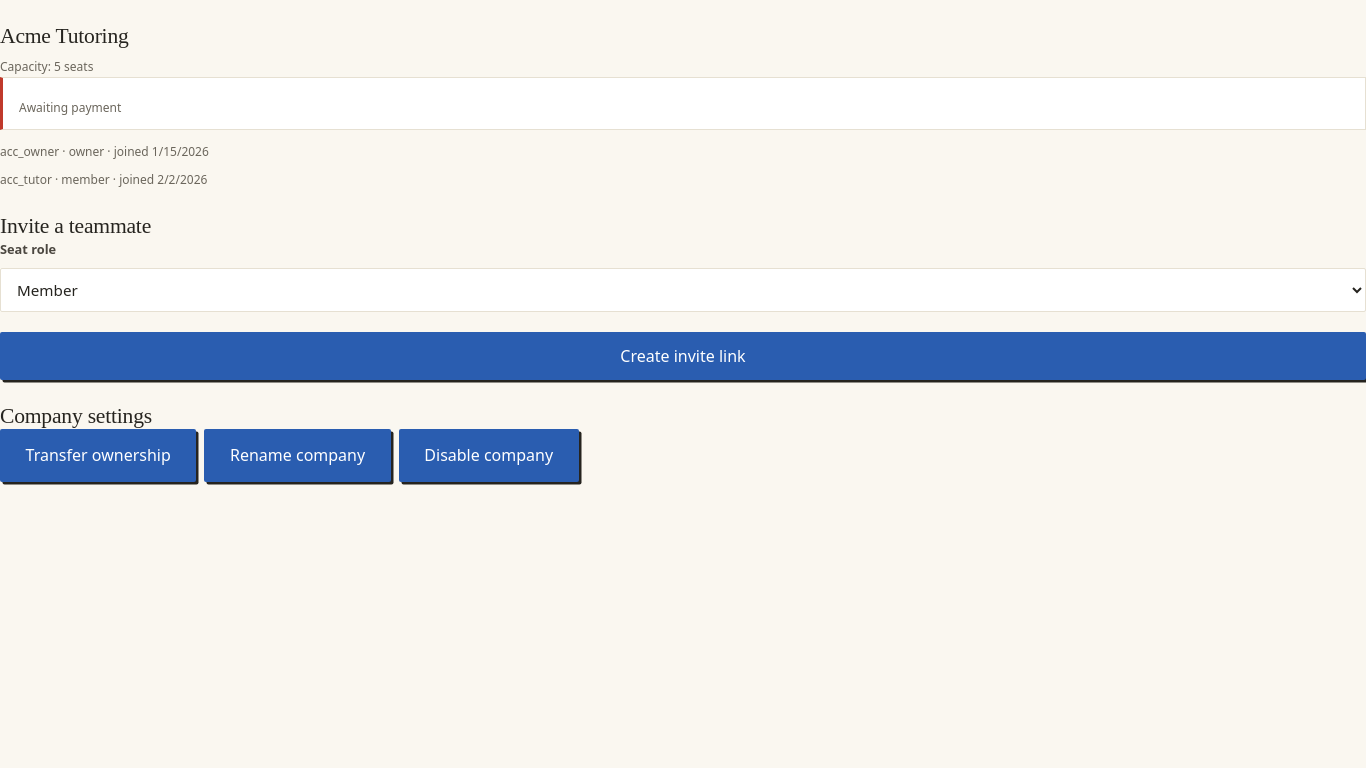
CompanyAdminPanel destructive actions › renames the company through PATCH /api/company behind a real confirmation
The image size is (1366, 768).
Expected: the element with test id "company-summary" is shown, [0,24,1365,190]
Click the button with test id "company-rename" at (298, 456), box [204,429,391,482]
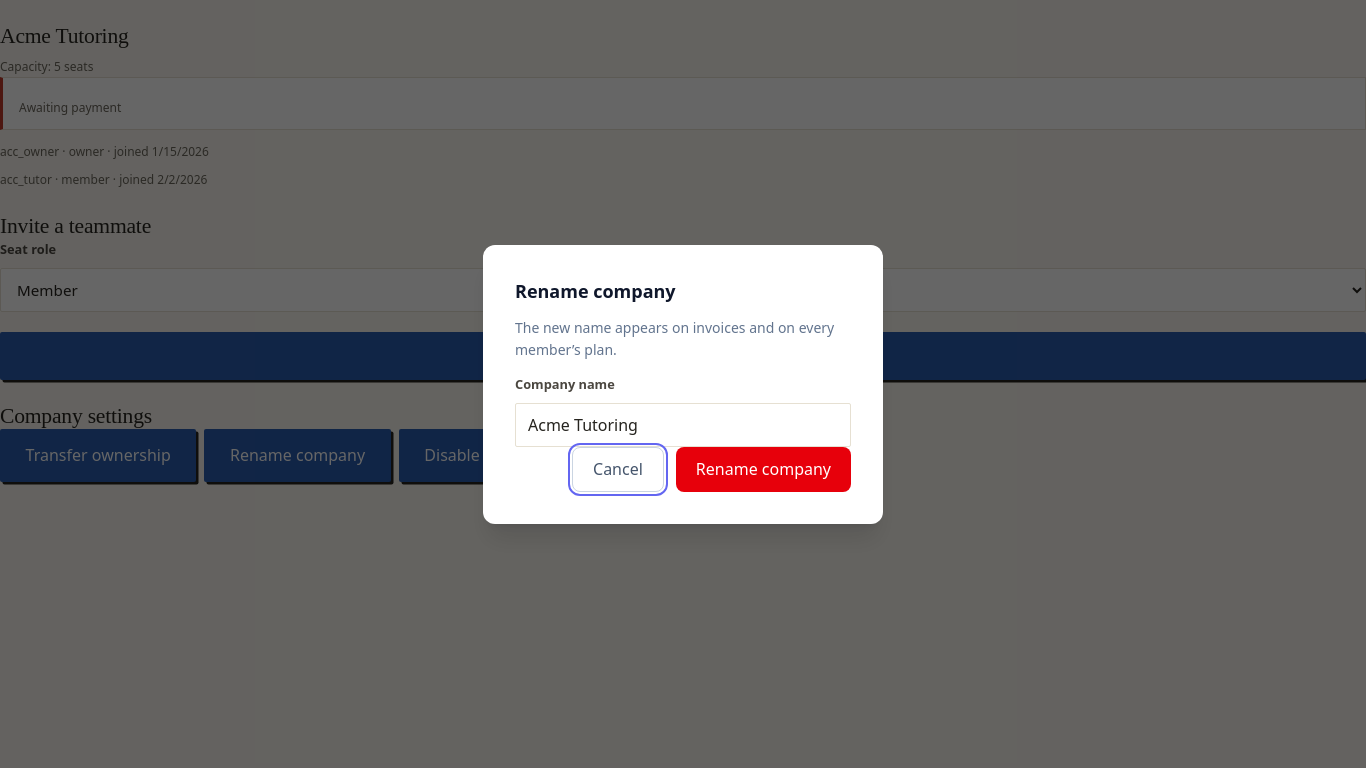
Result: the field with test id "company-rename-name" holds "Acme Tutoring"
Replace the text in the field with test id "company-rename-name" with "Acme 2" at (683, 425), box [515,403,851,447]
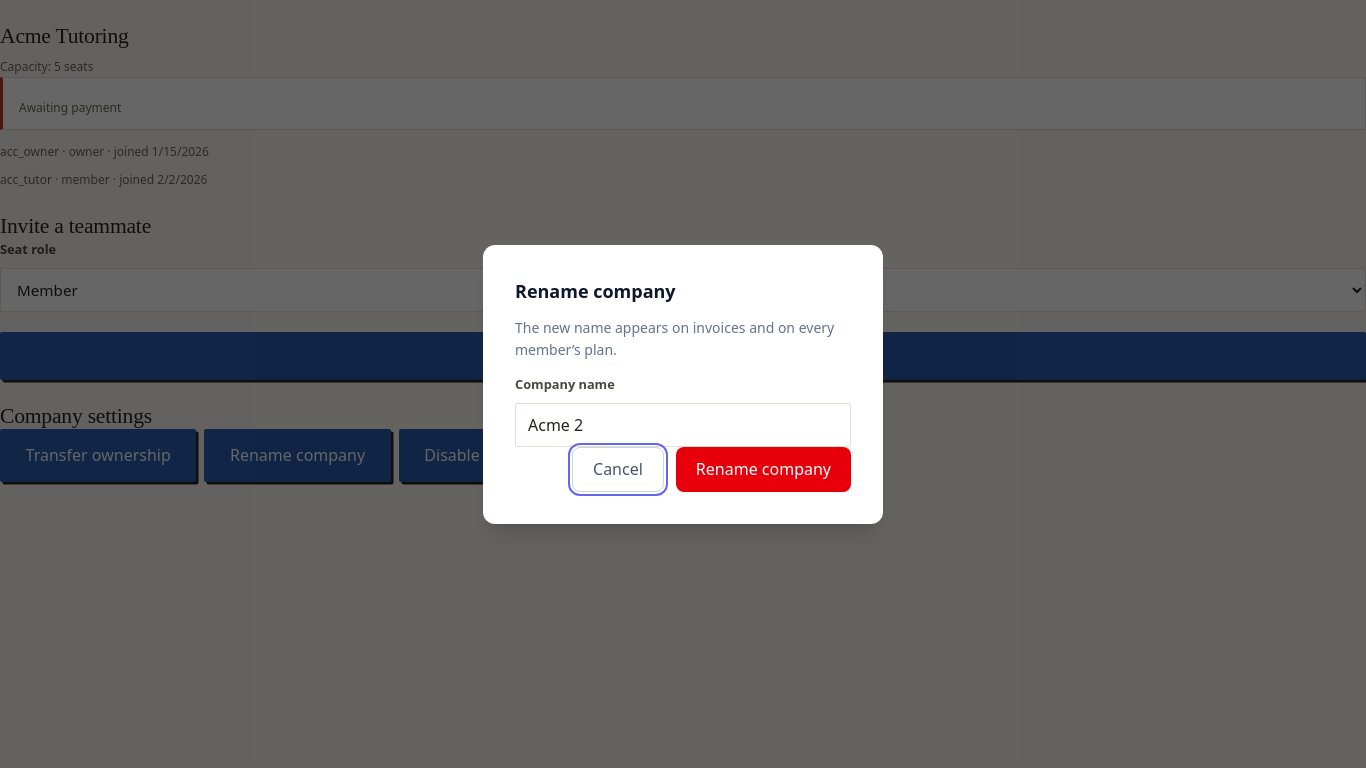
Click the button with test id "company-rename-confirm" at (763, 469), box [676,447,851,492]
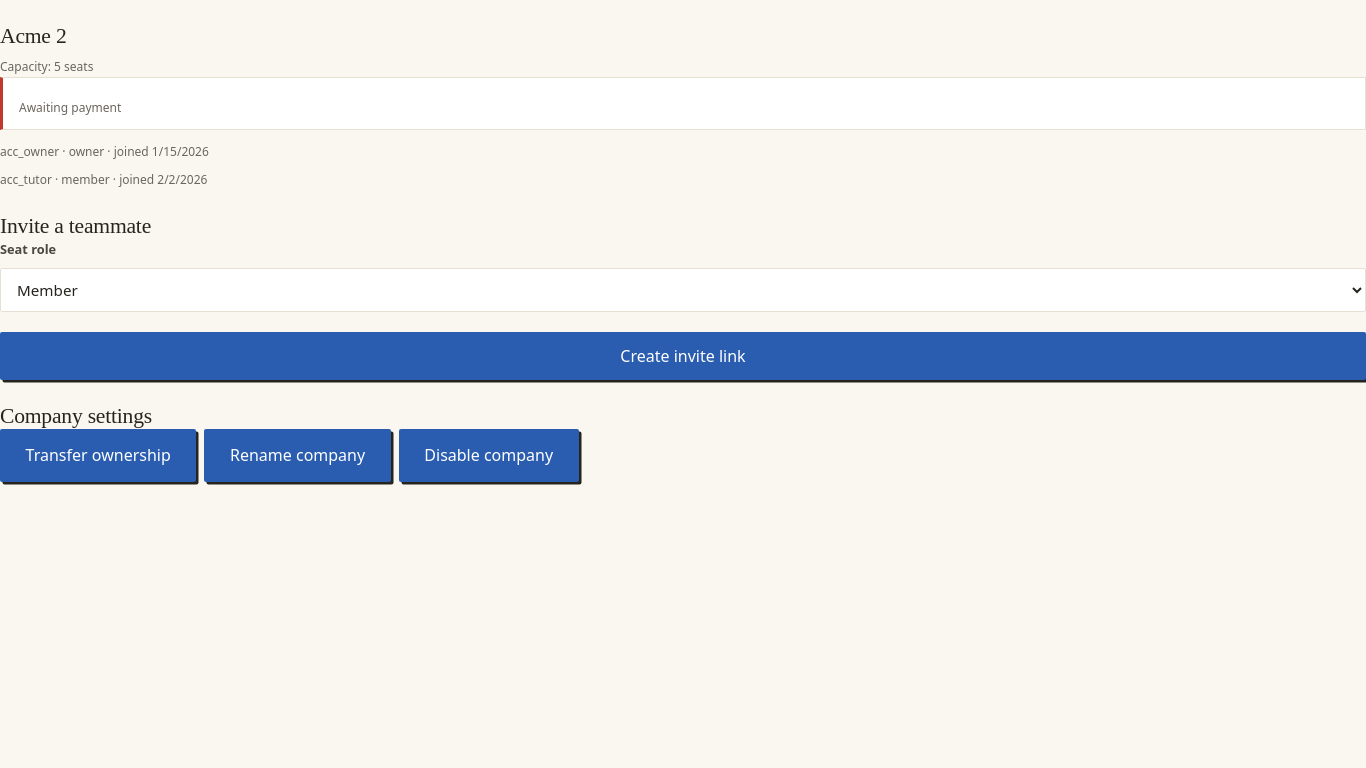
Result: the dialog is gone
Result: the element with test id "company-summary" shows "Acme 2" at [0,24,66,48]
